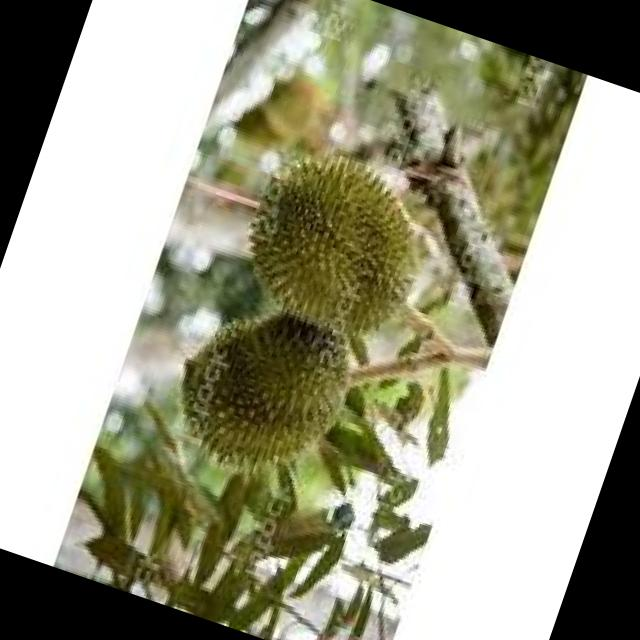fruit: (206, 111, 476, 376), (144, 268, 388, 516)
